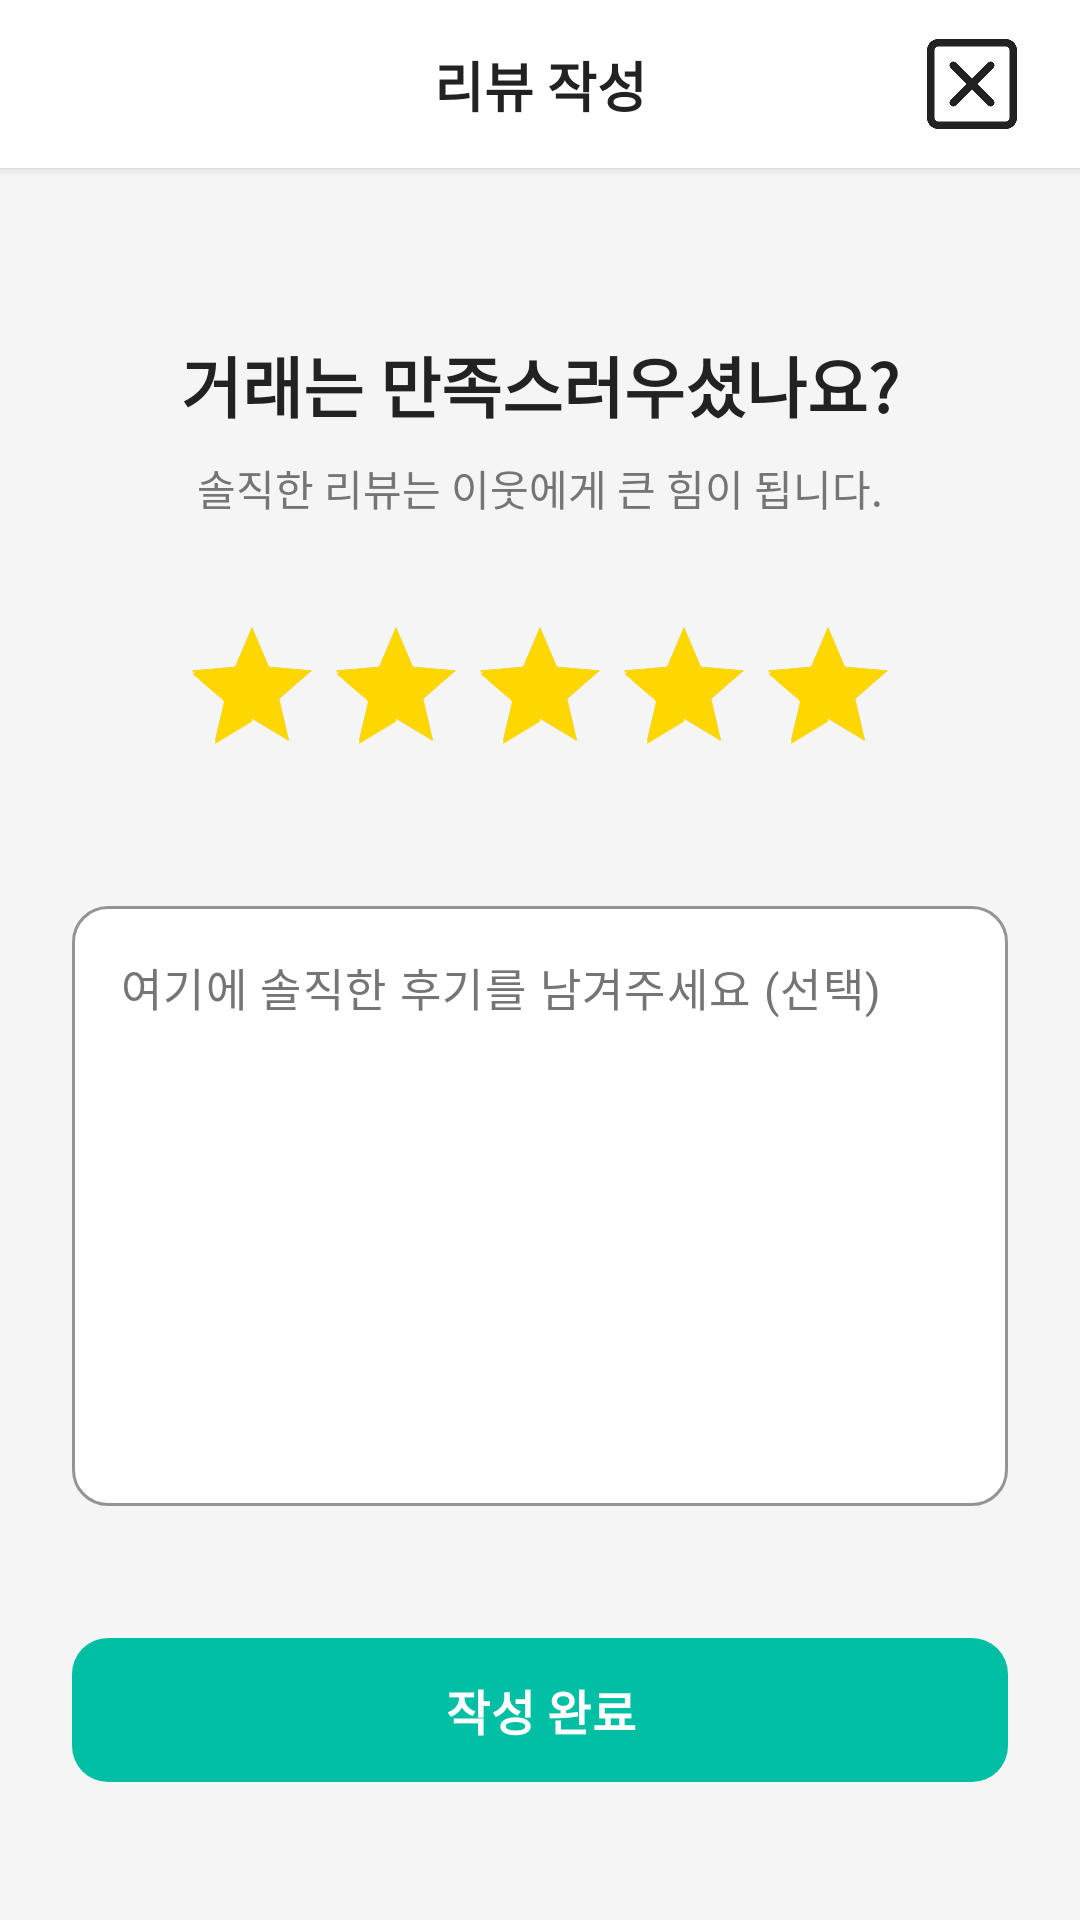

Screen size 1080w x 1920h. Icon name, then its box in pixels as Rect(x1, y1, x2, y2):
close: Rect(927, 39, 1017, 129)
